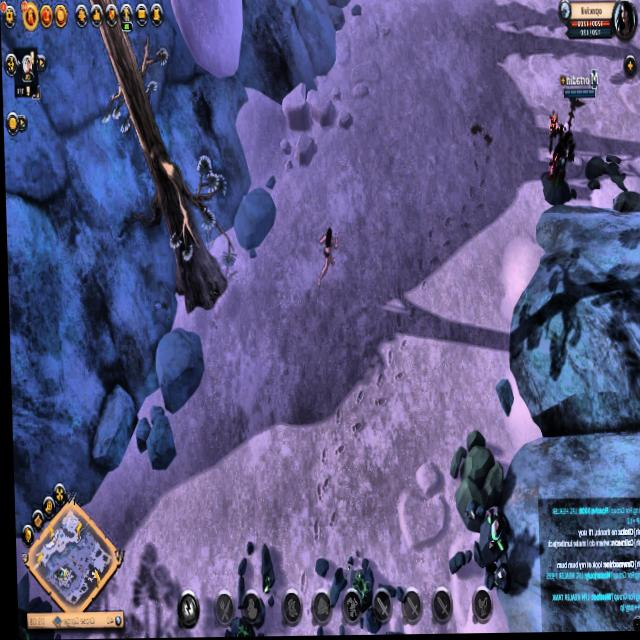sandstone: (442, 423, 504, 529)
